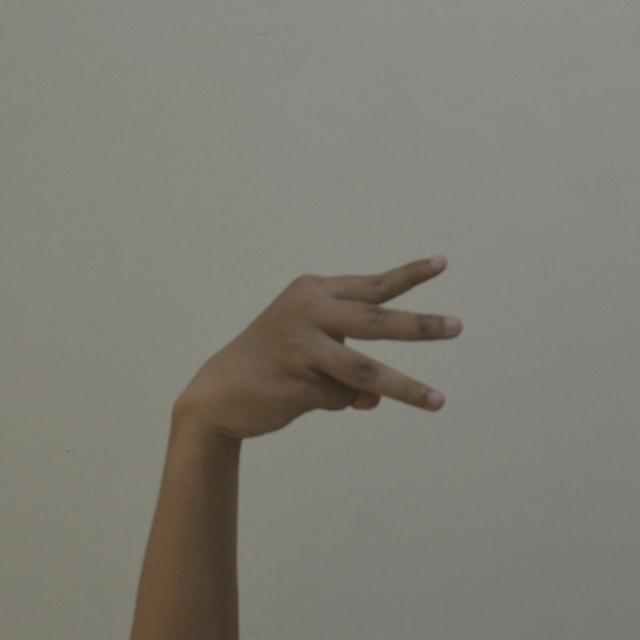E: (157, 245, 490, 460)
